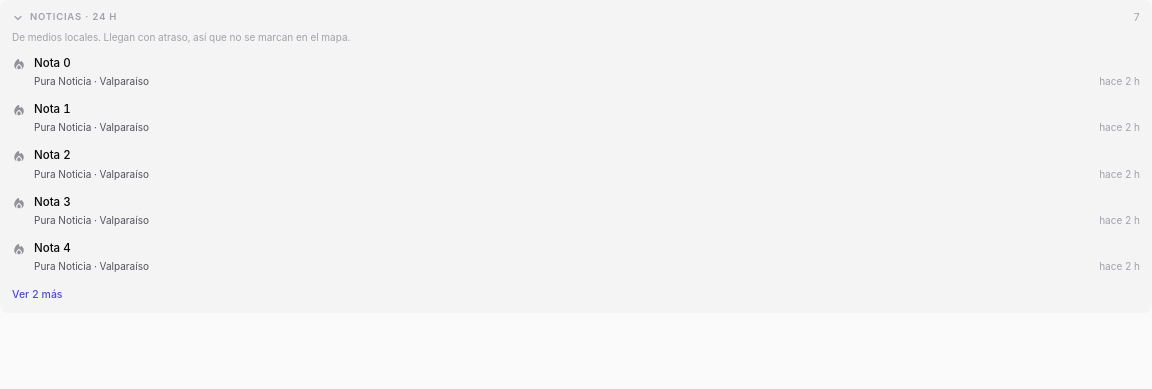
NewsFeedView › muestra las primeras y deja ver el resto
Expected: the number of links is 5, [6,49,1146,95]; [6,95,1146,141]; [6,141,1146,188]; [6,188,1146,234]; [6,234,1146,280]
Click the button "Ver 2 más" at (22, 294), box [6,283,1146,307]
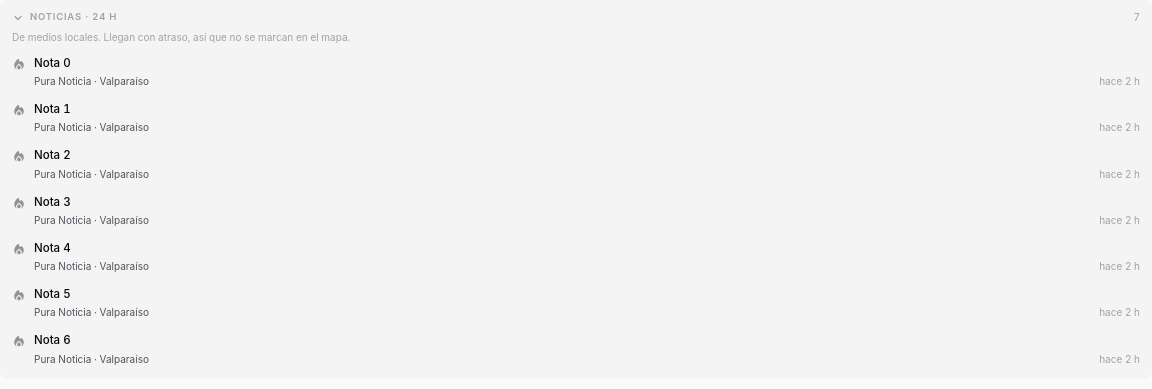
Expected: the number of links is 7
